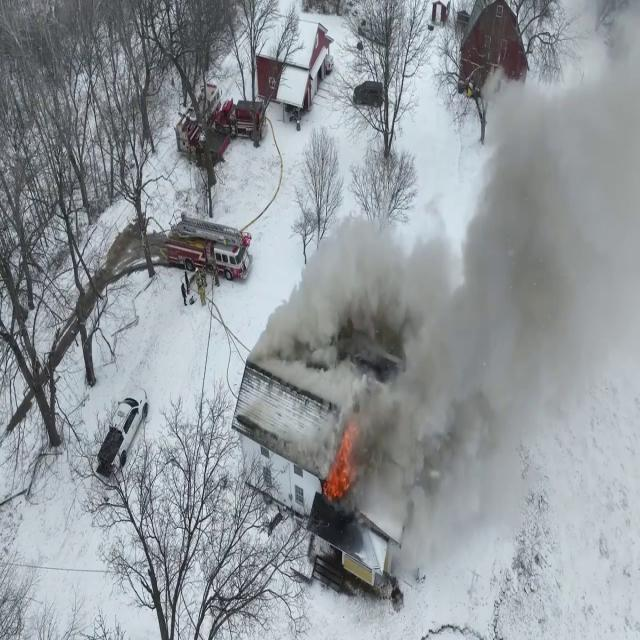Fire: (324, 420, 361, 505)
Smoke: (334, 12, 640, 629)
